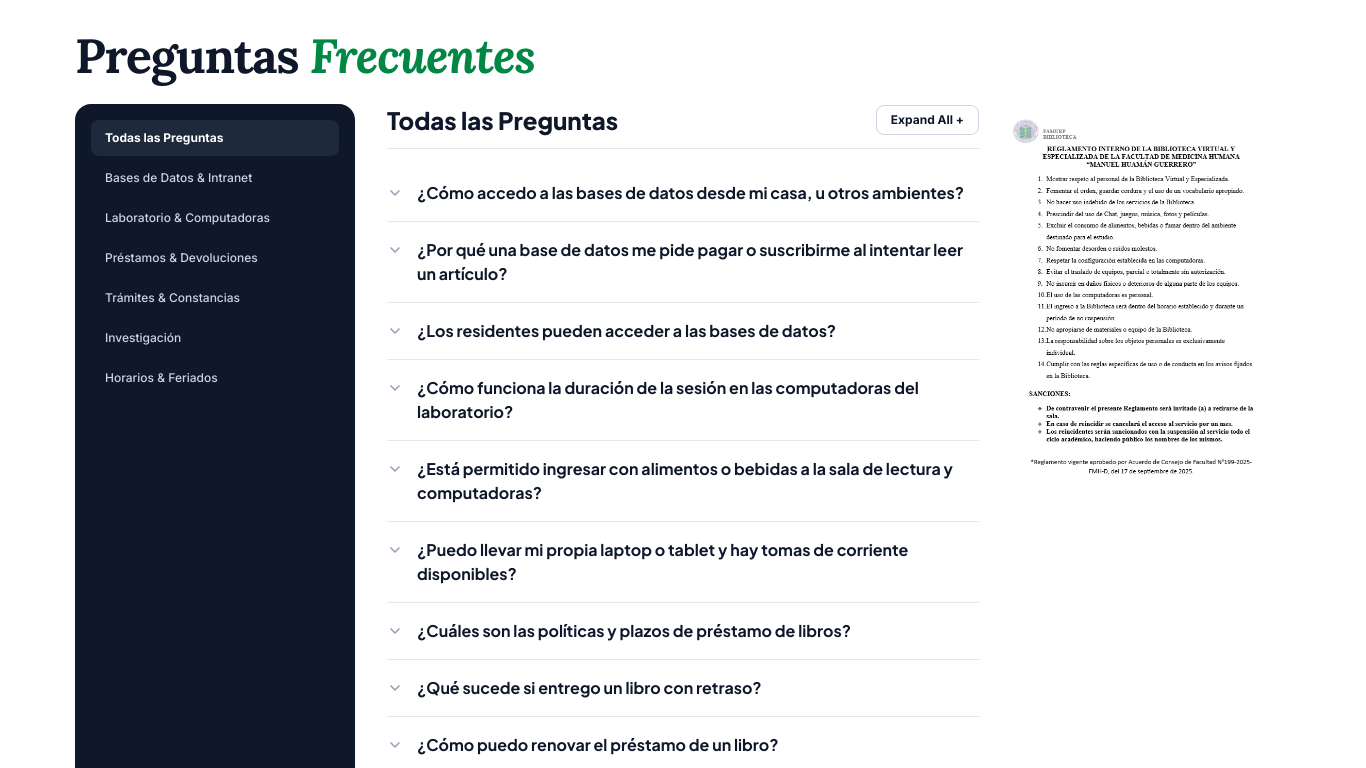
Scenario: FaqPage and FAQ Data › filters questions dynamically by category when clicking a category button
Click the button "Bases de Datos & Intranet".
click(215, 178)  # box 91,160 -> 339,196
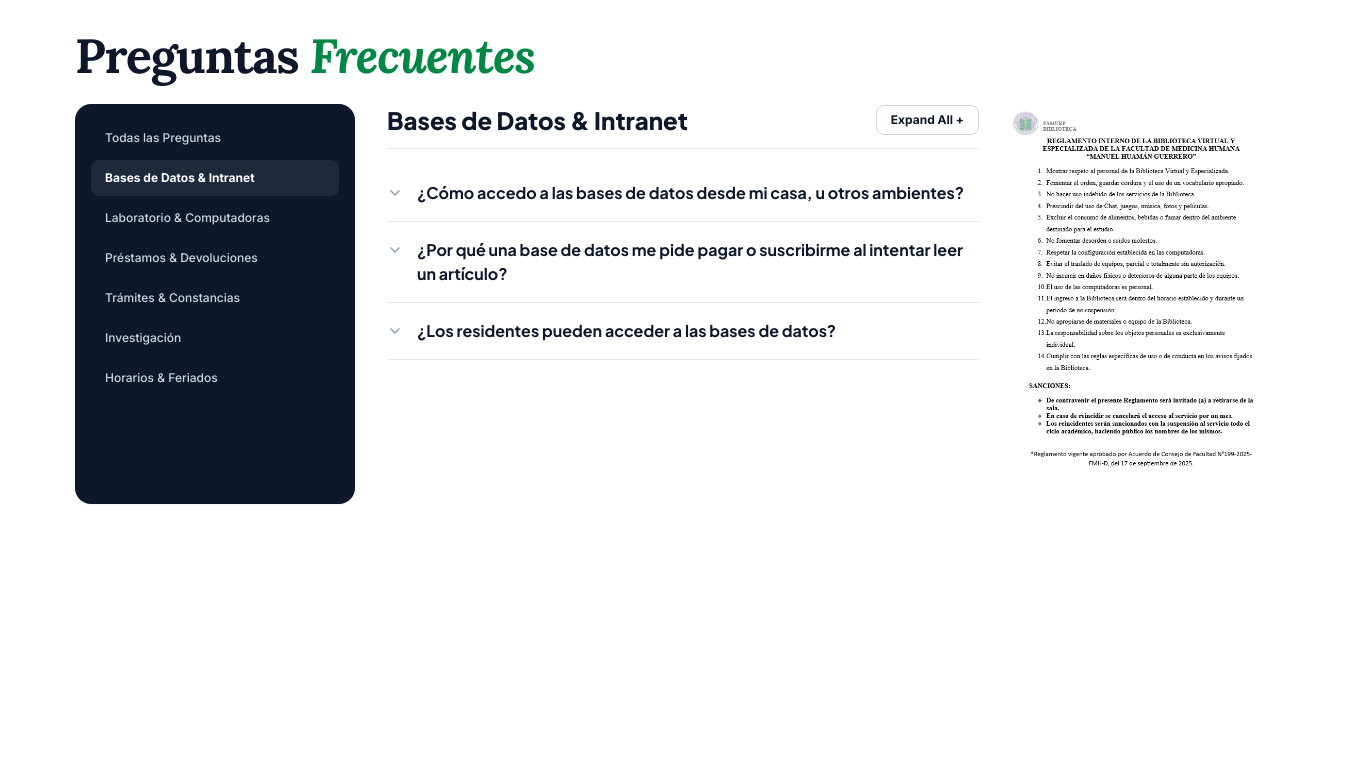
Check: the heading "Bases de Datos & Intranet" is shown, box 387,104 -> 688,136
Check: the button "¿Cómo funciona la duración de la sesión en las computadoras del laboratorio?" is gone
Check: the button "¿Está permitido ingresar con alimentos o bebidas a la sala de lectura y computadoras?" is gone
